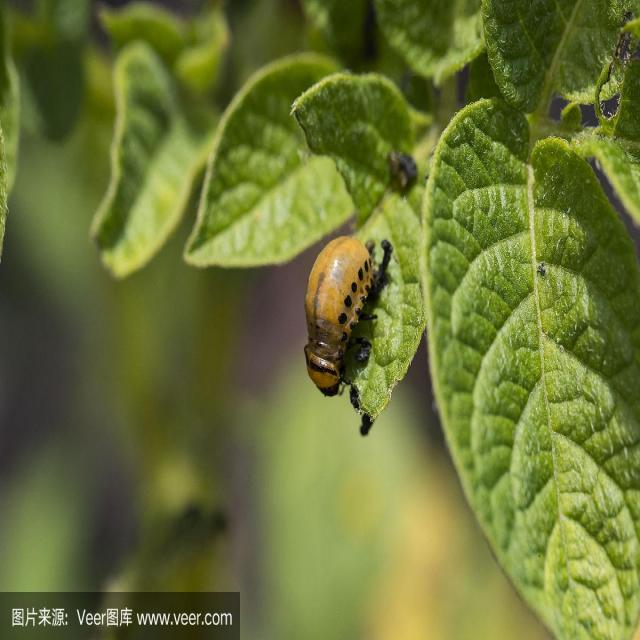ShuCaiHuaBanChong-Larva-: (291, 220, 387, 414)
